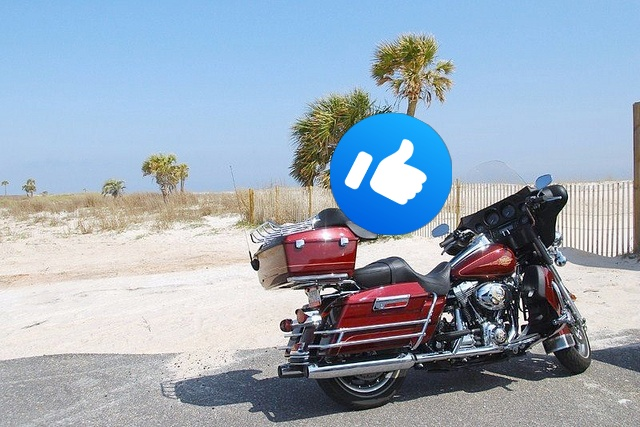like: (330, 113, 452, 235)
